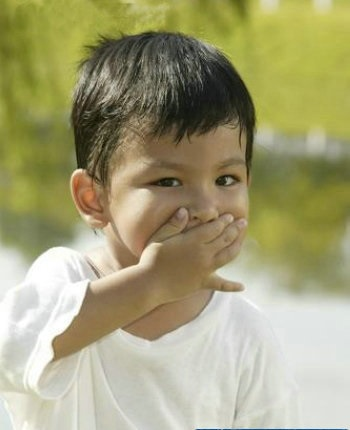face: (112, 99, 249, 282)
